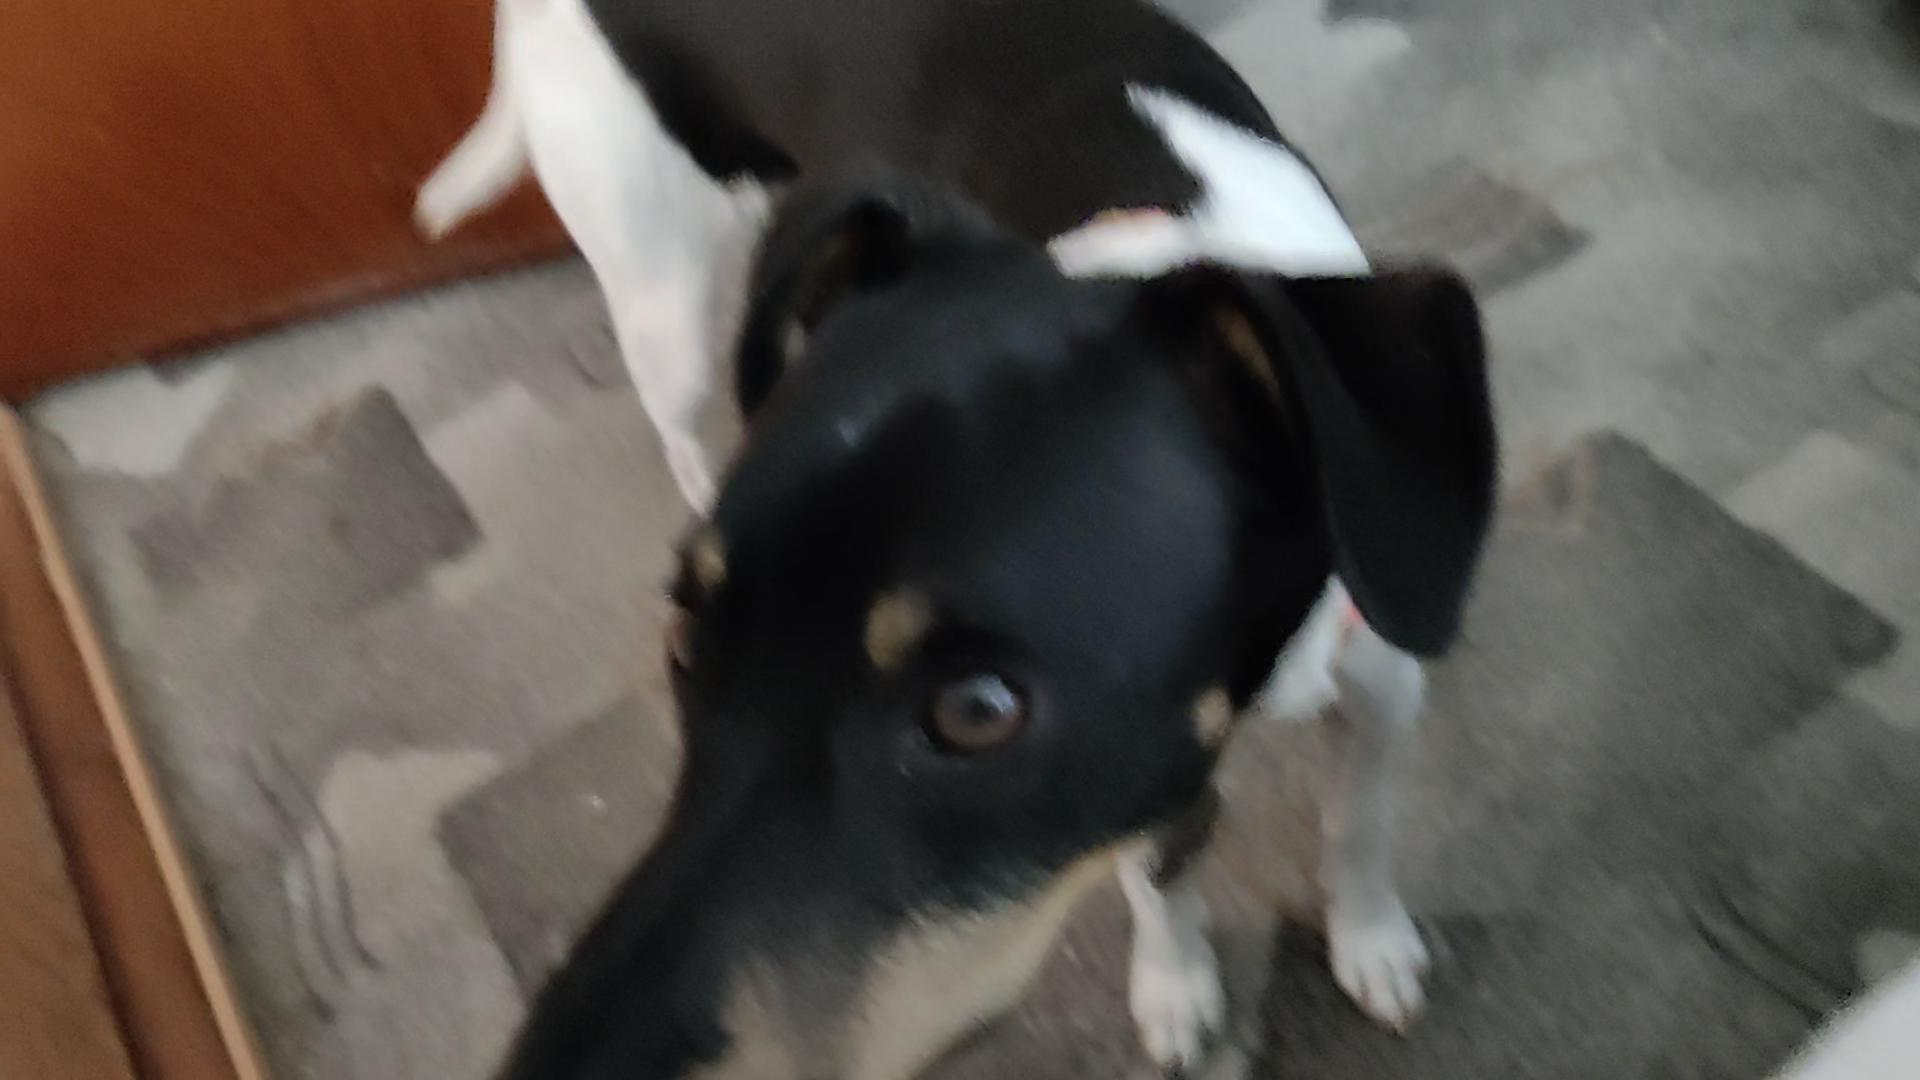Dog: (375, 0, 1527, 1079)
